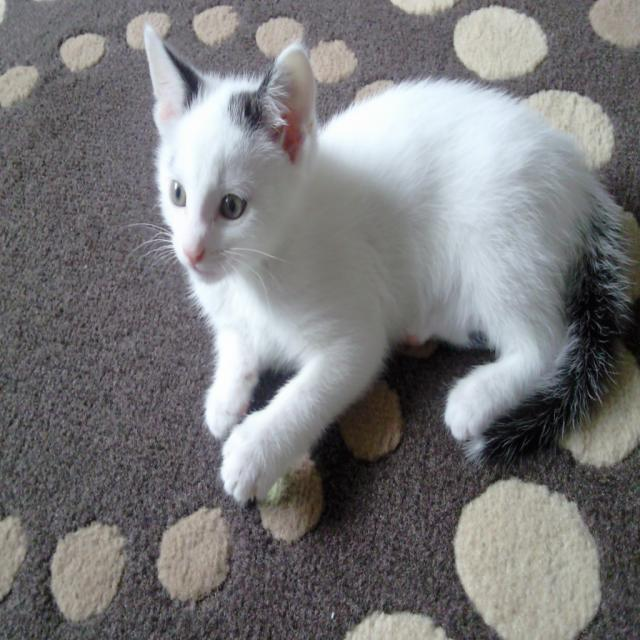Cat: (116, 22, 634, 508)
